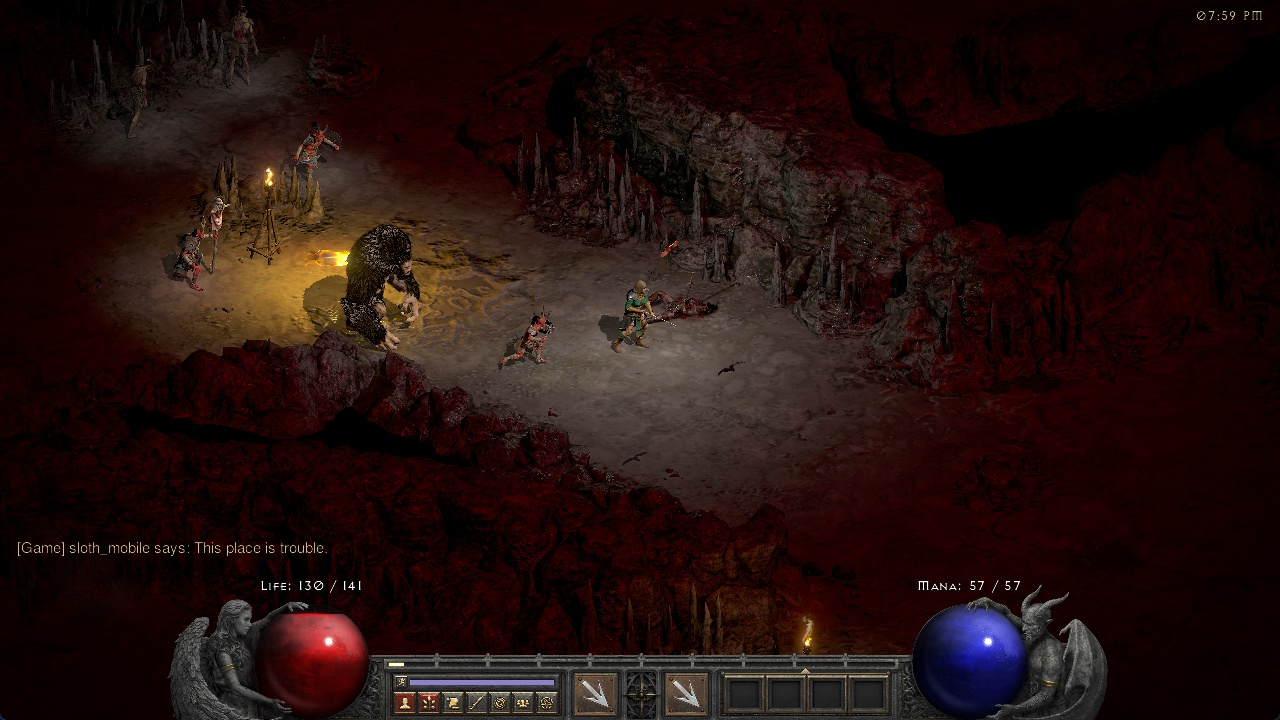fallen: (499, 306, 553, 371), (287, 122, 340, 176)
